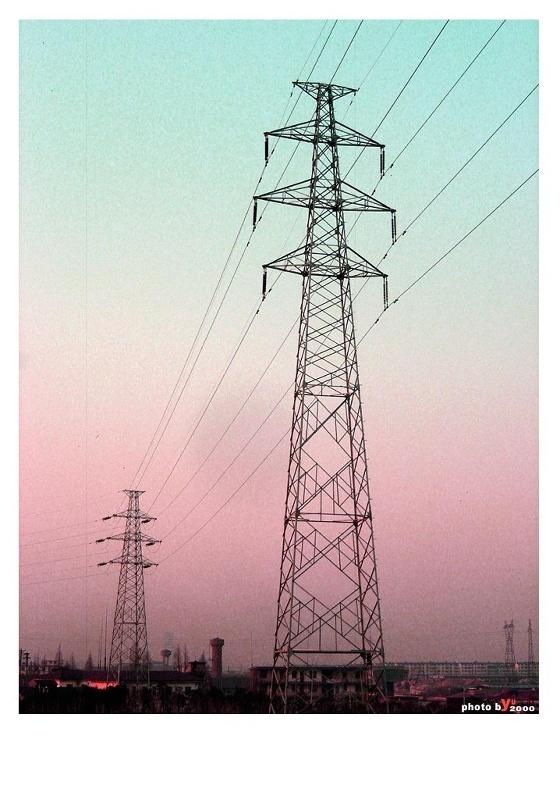power_tower: (246, 73, 417, 663), (92, 480, 174, 667)
